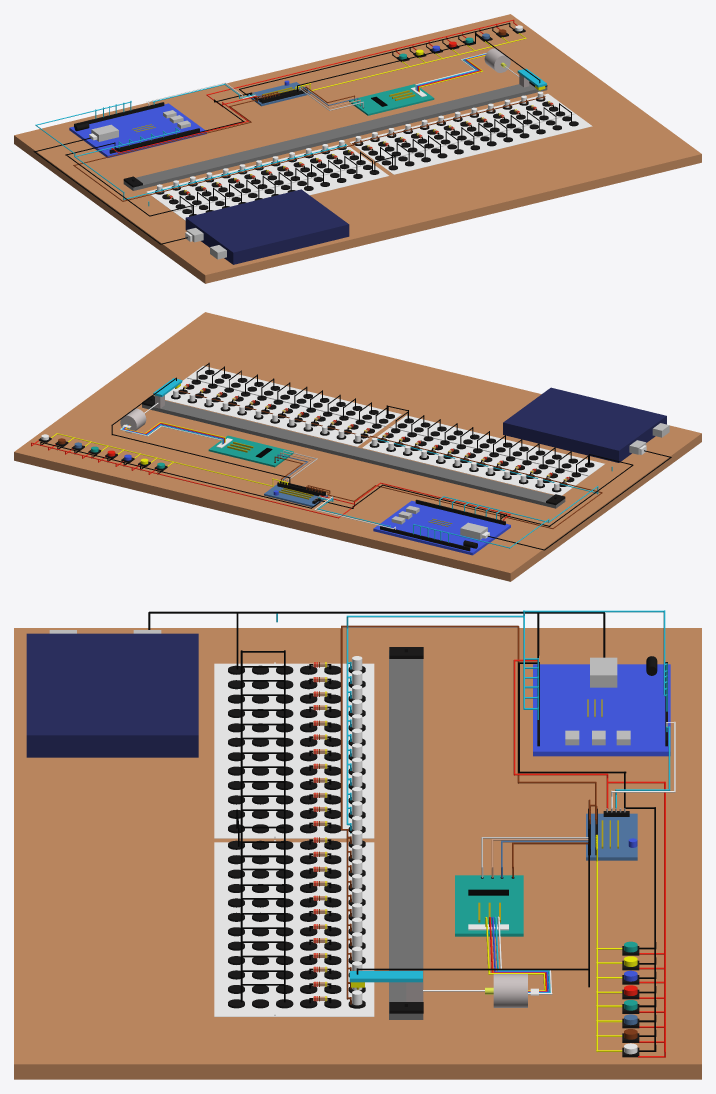
Rendered from MaquinaTuring3D.fbx.
3 views of the same model, one above another, from view 1: azimuth 30°, elevation 25°; view 2: azimuth 150°, elevation 25°; view 3: azimuth 270°, elevation 25° (orthographic). The views are drawn at different scales.
Visible parts, largest first — view 1: Base, PowerBank, Photoboard_1, Rail, Photoboard_2, Placa, PCB, CableBase__94_, CableBase__105_, PinExtender, MotorBody; view 2: Base, PowerBank, Photoboard_1, Photoboard_2, Rail, Placa, PCB, PinExtender, CableBase__94_, CableBase__105_, Pines1; view 3: Base, PowerBank, Photoboard_1, Photoboard_2, Rail, Placa, PCB, PinExtender, MotorBody, SoporteVertical, CableBase__2__25, USBPort.
Part boxes in pixels (left/top/right/bottom): Base: left=14, top=14, right=701, bottom=283; PowerBank: left=185, top=189, right=349, bottom=264; Photoboard_1: left=349, top=93, right=592, bottom=174; Rail: left=123, top=83, right=547, bottom=190; Photoboard_2: left=146, top=143, right=388, bottom=220; Placa: left=69, top=103, right=206, bottom=157; PCB: left=349, top=84, right=434, bottom=115; CableBase__94_: left=207, top=19, right=513, bottom=94; CableBase__105_: left=240, top=23, right=509, bottom=89; PinExtender: left=248, top=82, right=310, bottom=106; MotorBody: left=484, top=48, right=510, bottom=72; Base: left=14, top=312, right=701, bottom=581; PowerBank: left=503, top=387, right=666, bottom=462; Photoboard_1: left=165, top=365, right=401, bottom=446; Photoboard_2: left=362, top=415, right=604, bottom=495; Rail: left=142, top=400, right=565, bottom=508; Placa: left=373, top=500, right=510, bottom=555; PCB: left=208, top=435, right=293, bottom=467; PinExtender: left=264, top=484, right=327, bottom=507; CableBase__94_: left=31, top=442, right=338, bottom=518; CableBase__105_: left=40, top=442, right=311, bottom=508; Pines1: left=415, top=499, right=505, bottom=525; Base: left=14, top=628, right=701, bottom=1079; PowerBank: left=26, top=633, right=198, bottom=757; Photoboard_1: left=214, top=842, right=374, bottom=1016; Photoboard_2: left=214, top=663, right=374, bottom=838; Rail: left=389, top=650, right=423, bottom=1019; Placa: left=533, top=664, right=670, bottom=756; PCB: left=455, top=875, right=523, bottom=936; PinExtender: left=586, top=813, right=637, bottom=860; MotorBody: left=493, top=974, right=527, bottom=1007; SoporteVertical: left=349, top=971, right=422, bottom=982; CableBase__2__25: left=238, top=611, right=537, bottom=613; USBPort: left=590, top=657, right=617, bottom=687.
Bounding box in the file's own units: 3044 × 169 × 2000.
